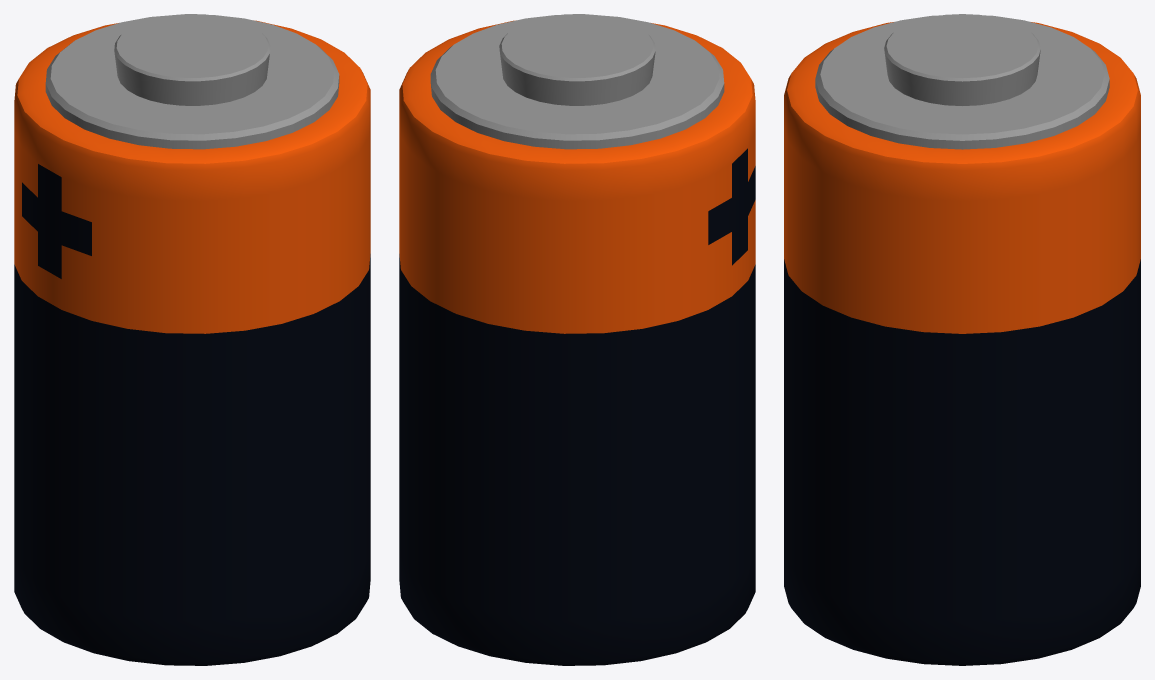
File: Battery_1.FBX
3 renders of one model, left to right at view 1: azimuth 30°, elevation 25°; view 2: azimuth 150°, elevation 25°; view 3: azimuth 270°, elevation 25°, orthographic.
Parts seen in each view (by area): view 1: Cylinder074; view 2: Cylinder074; view 3: Cylinder074.
Part boxes in pixels (x1=…): Cylinder074: x1=14, y1=14, x2=370, y2=665; Cylinder074: x1=399, y1=14, x2=755, y2=665; Cylinder074: x1=784, y1=14, x2=1140, y2=665.
Bounding box in the file's own units: 339 × 584 × 339.
